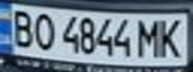4: (57, 12, 81, 53), (112, 16, 136, 57), (93, 15, 115, 56)
8: (78, 13, 96, 55)
B: (6, 7, 39, 48)
K: (154, 16, 190, 58)
M: (136, 16, 163, 58)
O: (30, 10, 57, 52)
